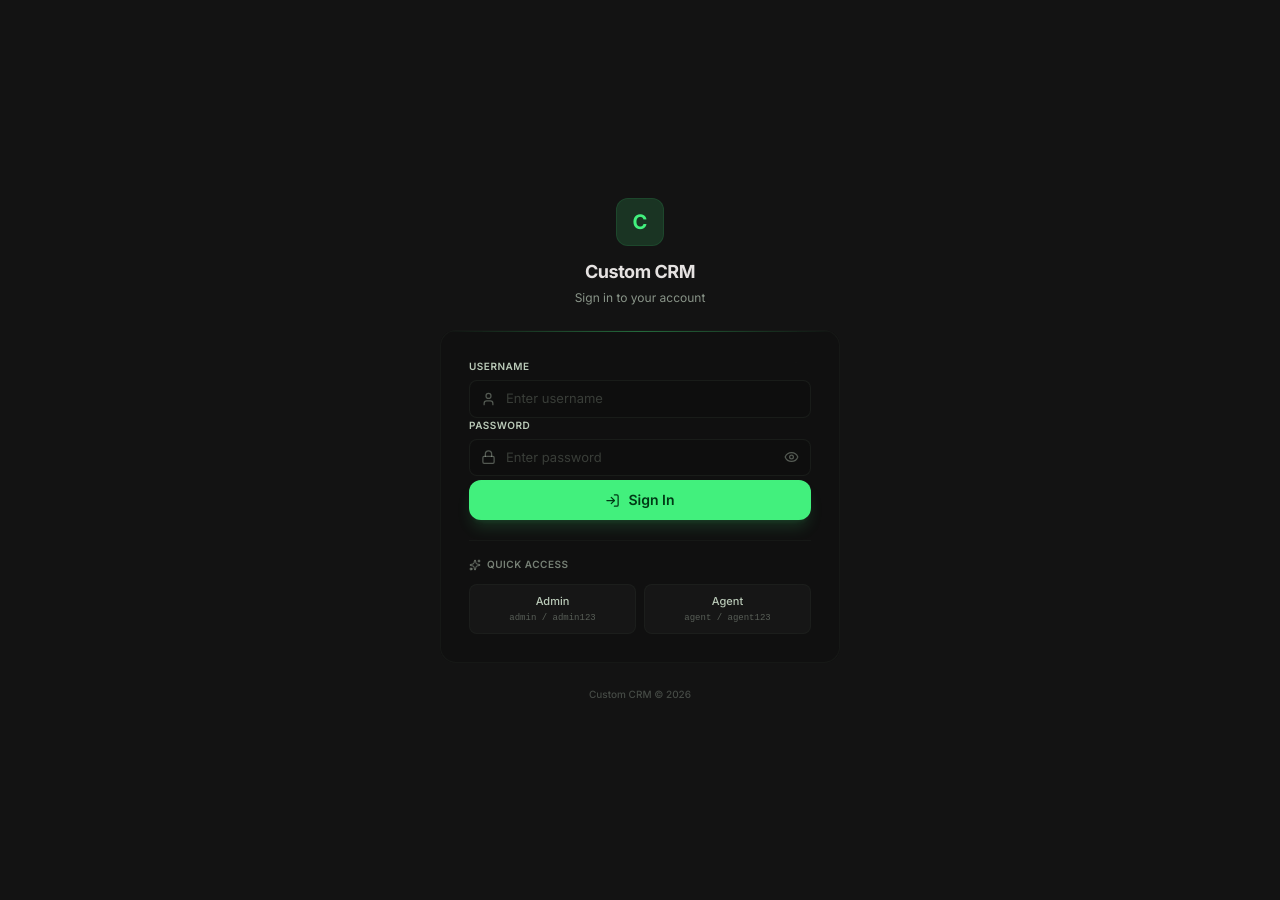
Scenario: Login Page › shows error on failed login
Type "testuser" into the field with placeholder "Enter username".
click(640, 399); type("testuser")  # box [469,380,811,418]
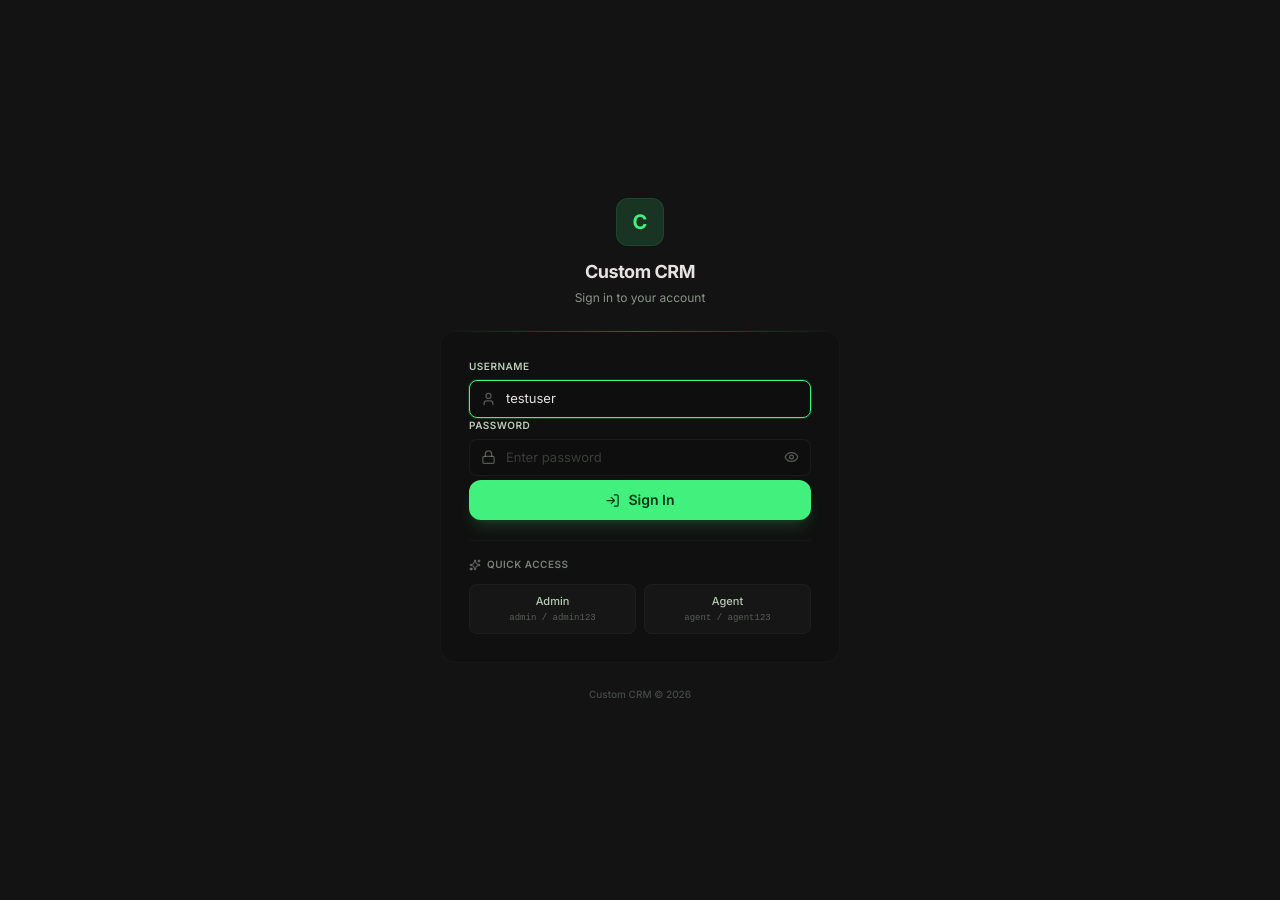
Type "wrong" into the password field with placeholder "Enter password".
click(640, 457); type("wrong")  # box [469,438,811,476]
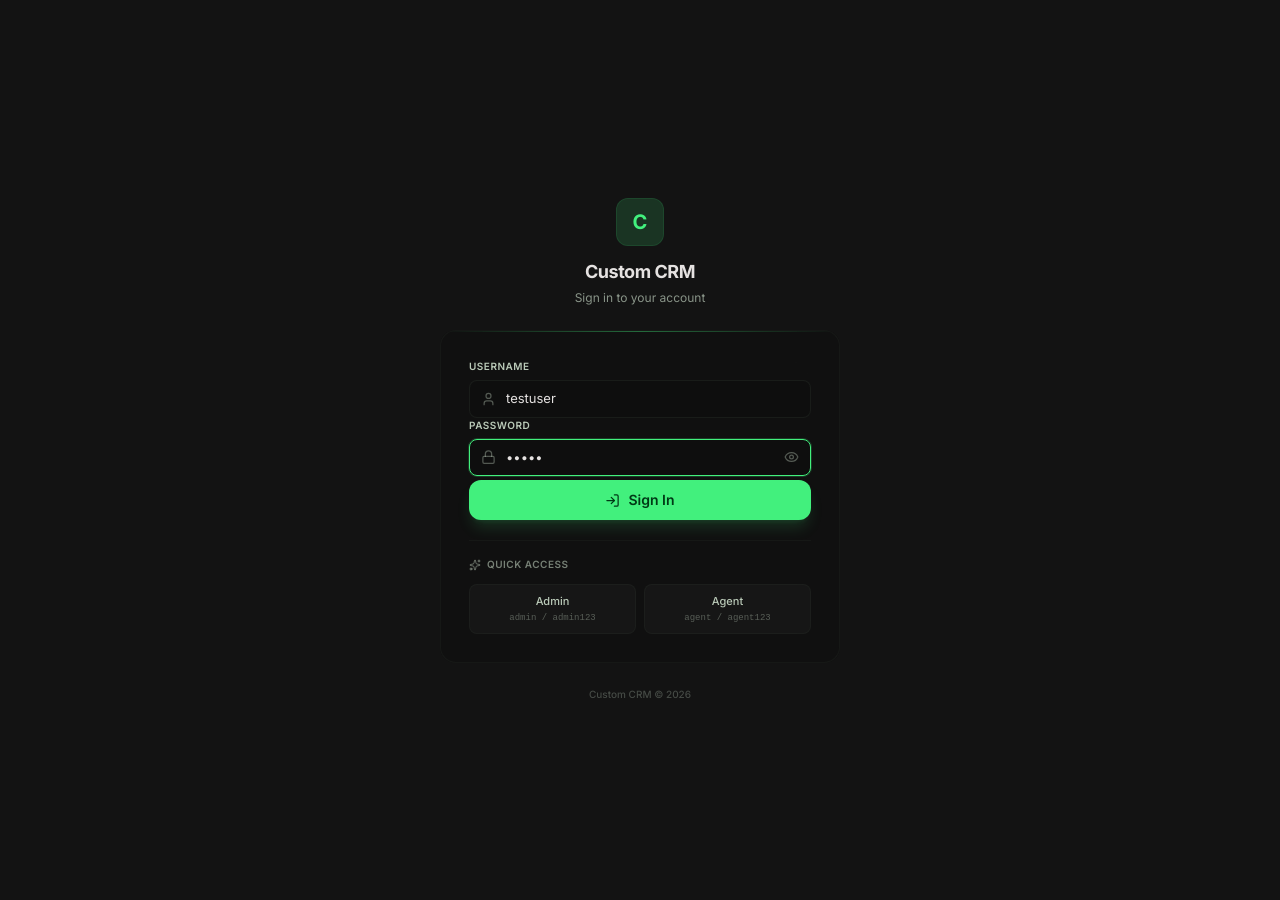
Click the button "Sign In".
click(640, 500)  # box [469,480,811,520]
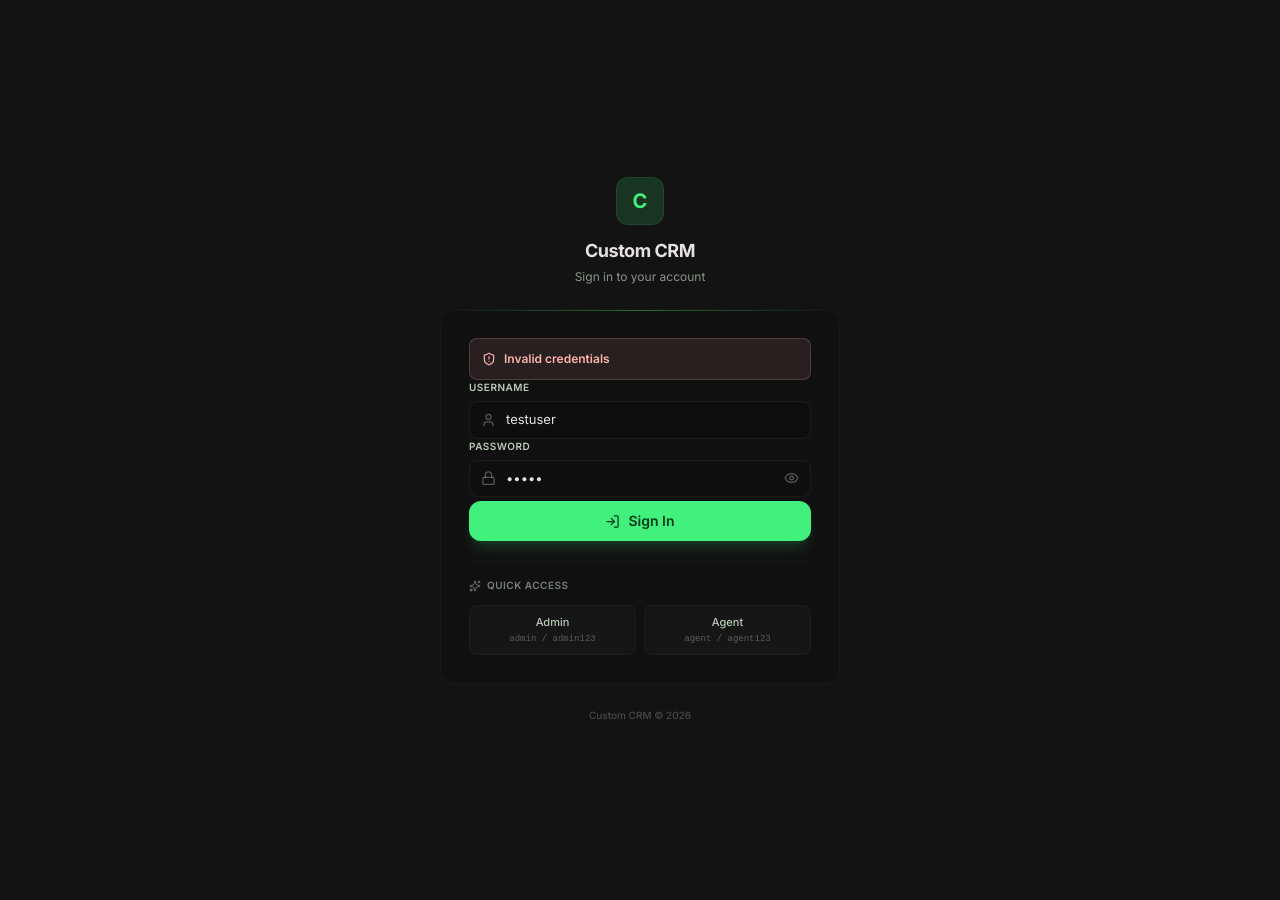
Expected: the text "Invalid credentials" is shown, [504,351,610,367]
